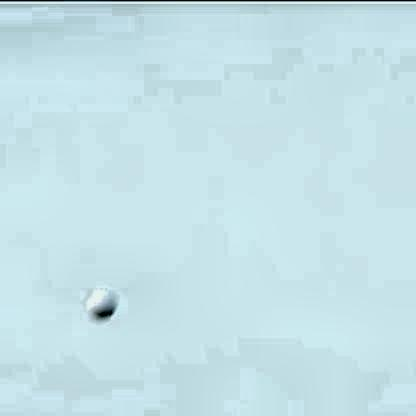golfball: (83, 284, 114, 317)
